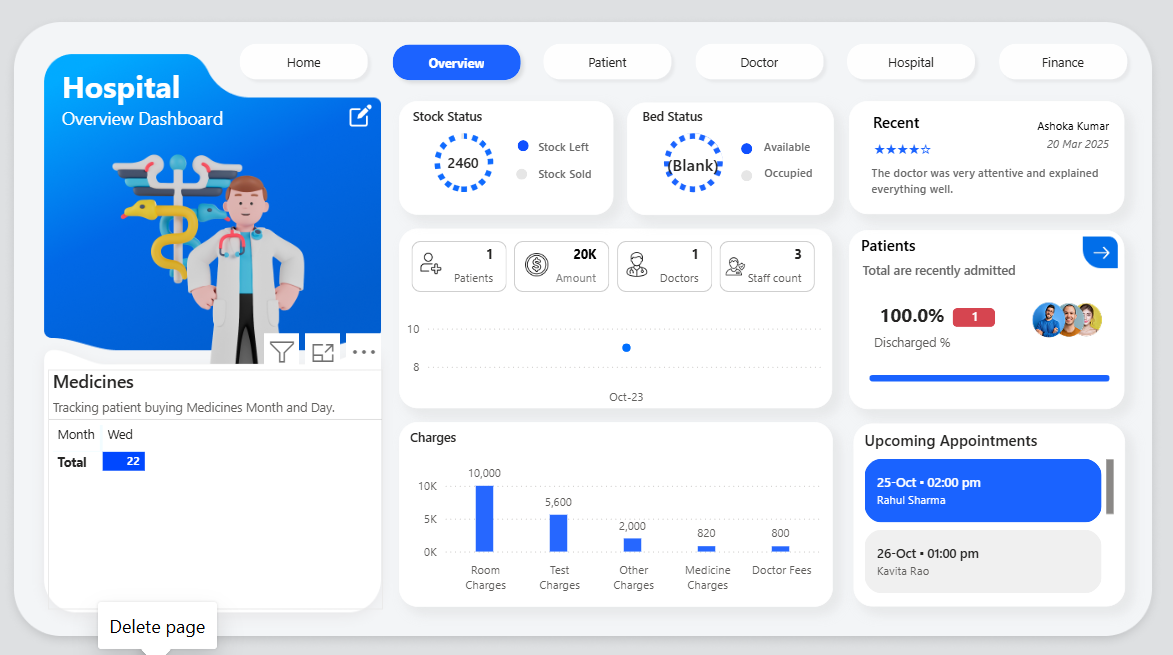

Layout of this report page (visuals, bound fields, positions):
{"tool":"powerbi","page":{"name":"Overview","canvas":[1280,720],"ordinal":1},"visuals":[{"type":"shape","box":[445.2,253.6,459.5,190.5],"z":0},{"type":"shape","box":[922.6,253.8,292.2,190.1],"z":0,"group":"g1"},{"type":"shape","box":[445.9,117.8,227.6,120.5],"z":1000},{"type":"shape","box":[1032.1,335.9,45.2,20.2],"z":1000,"group":"g1"},{"type":"shape","box":[686.9,119.2,219.6,119.2],"z":2000},{"type":"textbox","box":[83.3,75,196.4,78.6],"z":3000},{"type":"image","box":[69,151.2,356,250],"z":4000},{"type":"pivotTable","title":"Medicines","fields":{"Columns":["Calender.Day"],"Rows":["Calender.Month"],"Values":["Sum(Medicine_Sales.qty)"]},"box":[72.4,402.1,355.6,254.7],"z":5000},{"type":"pageNavigator","box":[269,48.8,959.5,53.6],"z":6000},{"type":"cardVisual","fields":{"Data":["Count(Patient.patient_id)","Hospital_Bills.Paid_Amount","Count(Doctor.doctor_id)","Count(Staff.staff_id)"]},"box":[453.6,260.7,439.3,64.3],"z":7000},{"type":"group","id":"g1","title":"Group 1","box":[922.6,253.8,292.2,190.1],"z":8000},{"type":"hundredPercentStackedBarChart","fields":{"Y":["Patient.Patinent_Dichd%","Patient.Patinent_Admitted%"]},"box":[935.5,370.2,271.5,69.8],"z":8000,"group":"g1"},{"type":"donutChart","title":"Stock Status","fields":{"Y":["Sum(Medical_Stock.stock_qty)","Sum(Medicine_Sales.qty)"]},"box":[455.2,124.5,117.8,103.1],"z":9000},{"type":"card","fields":{"Values":["Patient.Patinent_Dichd%"]},"box":[938.5,311.2,101.2,86.9],"z":9000,"group":"g1"},{"type":"shape","box":[935.6,258.6,107.3,23.3],"z":10000,"group":"g1"},{"type":"stackedAreaChart","title":"Medicines Sailing by Monthyr","fields":{"Category":["Calender.Month-yr"],"Y":["Sum(Medicine_Sales.qty)"]},"box":[448.8,325,452.4,125],"z":10000},{"type":"donutChart","title":"Bed Status","fields":{"Y":["Beds.Bed_Occupied","Beds.Bed_Available"]},"box":[697.6,124.5,117.8,103.1],"z":11000},{"type":"card","fields":{"Values":["Patient.Total_Discharged_Patient"]},"box":[1026.2,333.6,59.5,26.2],"z":11000,"group":"g1"},{"type":"shape","box":[936.9,281.9,177.1,25.9],"z":12000,"group":"g1"},{"type":"advancedSlicerVisual","title":"Upcoming Appointments","fields":{"Values":["Appointment.Date_Time"]},"box":[927,460.3,288.3,193.9],"z":12000},{"type":"group","id":"g2","title":"Group 3","box":[922.6,117.6,292.2,120.2],"z":13000},{"type":"clusteredColumnChart","title":"Charges","fields":{"Category":["Hospital_Bills.Charges Type"],"Y":["Sum(Hospital_Bills.Value)"]},"box":[445.5,458.7,459.9,195.7],"z":14000},{"type":"shape","box":[934.5,398.8,272.6,25],"z":15000},{"type":"shape","box":[579.7,155.3,81.7,21.4],"z":16000},{"type":"shape","box":[581.1,184.8,81.7,21.4],"z":17000},{"type":"image","box":[1109.8,256.1,102.1,117.7],"z":17000,"group":"g1"},{"type":"shape","box":[922.6,117.6,292.2,120.2],"z":18000,"group":"g2"},{"type":"shape","box":[815.7,156.4,81.7,21.4],"z":18000},{"type":"card","fields":{"Values":["Appointment.Sum of rating star rating"]},"box":[930.4,153.8,97,31],"z":19000,"group":"g2"},{"type":"shape","box":[817.1,183.2,81.7,21.4],"z":19000},{"type":"shape","box":[948.5,129.2,107.3,23.3],"z":20000,"group":"g2"},{"type":"shape","box":[570.4,159.3,12.1,12.1],"z":20000},{"type":"shape","box":[945.9,186.1,261.2,50.4],"z":21000,"group":"g2"},{"type":"shape","box":[569,188.8,12.1,12.1],"z":21000},{"type":"shape","box":[1090.7,131.8,107.3,23.3],"z":22000,"group":"g2"},{"type":"shape","box":[807.5,161.8,12.1,12.1],"z":22000},{"type":"shape","box":[1090.7,151.2,107.3,23.3],"z":23000,"group":"g2"},{"type":"shape","box":[808.7,190.1,12.1,12.1],"z":23000},{"type":"image","box":[459.2,144.6,109.8,80.3],"z":24000},{"type":"card","fields":{"Values":["Sum(Medical_Stock.stock_qty)"]},"box":[479.3,167.4,68.3,36.2],"z":25000},{"type":"image","box":[700,146.4,113.1,76.2],"z":26000},{"type":"card","fields":{"Values":["Beds.Bed_Available"]},"box":[721.4,169,69,36.9],"z":27000},{"type":"image","box":[463.5,272.6,32.4,36],"z":28000},{"type":"image","box":[571.6,273.8,40.8,34.8],"z":29000},{"type":"image","box":[679.6,272.6,36,38.4],"z":30000},{"type":"image","box":[786.5,276.2,32.4,32.4],"z":31000},{"type":"image","box":[384.2,116.5,39.6,33.6],"z":32000}]}

Visuals, with their boxes in screenshot pixels (x1, y1, x2, y2), scaled from the page's 1280x720 canvas onto the 1173x655 screenshot:
shape: (left=408, top=231, right=829, bottom=404)
shape: (left=845, top=231, right=1113, bottom=404)
shape: (left=409, top=107, right=617, bottom=217)
shape: (left=946, top=306, right=987, bottom=324)
shape: (left=629, top=108, right=831, bottom=217)
textbox: (left=76, top=68, right=256, bottom=140)
image: (left=63, top=138, right=389, bottom=365)
"Medicines" pivotTable: (left=66, top=366, right=392, bottom=598)
pageNavigator: (left=247, top=44, right=1126, bottom=93)
cardVisual - Count(Patient.patient_id) x Hospital_Bills.Paid_Amount: (left=416, top=237, right=818, bottom=296)
"Group 1" group: (left=845, top=231, right=1113, bottom=404)
hundredPercentStackedBarChart - Patient.Patinent_Dichd% x Patient.Patinent_Admitted%: (left=857, top=337, right=1106, bottom=400)
"Stock Status" donutChart: (left=417, top=113, right=525, bottom=207)
card - Patient.Patinent_Dichd%: (left=860, top=283, right=953, bottom=362)
shape: (left=857, top=235, right=956, bottom=256)
"Medicines Sailing by Monthyr" stackedAreaChart: (left=411, top=296, right=826, bottom=409)
"Bed Status" donutChart: (left=639, top=113, right=747, bottom=207)
card - Patient.Total_Discharged_Patient: (left=940, top=303, right=995, bottom=327)
shape: (left=859, top=256, right=1021, bottom=280)
"Upcoming Appointments" advancedSlicerVisual: (left=850, top=419, right=1114, bottom=595)
"Group 3" group: (left=845, top=107, right=1113, bottom=216)
"Charges" clusteredColumnChart: (left=408, top=417, right=830, bottom=595)
shape: (left=856, top=363, right=1106, bottom=386)
shape: (left=531, top=141, right=606, bottom=161)
shape: (left=533, top=168, right=607, bottom=188)
image: (left=1017, top=233, right=1111, bottom=340)
shape: (left=845, top=107, right=1113, bottom=216)
shape: (left=748, top=142, right=822, bottom=162)
card - Appointment.Sum of rating star rating: (left=853, top=140, right=942, bottom=168)
shape: (left=749, top=167, right=824, bottom=186)
shape: (left=869, top=118, right=968, bottom=139)
shape: (left=523, top=145, right=534, bottom=156)
shape: (left=867, top=169, right=1106, bottom=215)
shape: (left=521, top=172, right=533, bottom=183)
shape: (left=1000, top=120, right=1098, bottom=141)
shape: (left=740, top=147, right=751, bottom=158)
shape: (left=1000, top=138, right=1098, bottom=159)
shape: (left=741, top=173, right=752, bottom=184)
image: (left=421, top=132, right=521, bottom=205)
card - Sum(Medical_Stock.stock_qty): (left=439, top=152, right=502, bottom=185)
image: (left=641, top=133, right=745, bottom=203)
card - Beds.Bed_Available: (left=661, top=154, right=724, bottom=187)
image: (left=425, top=248, right=454, bottom=281)
image: (left=524, top=249, right=561, bottom=281)
image: (left=623, top=248, right=656, bottom=283)
image: (left=721, top=251, right=750, bottom=281)
image: (left=352, top=106, right=388, bottom=137)
